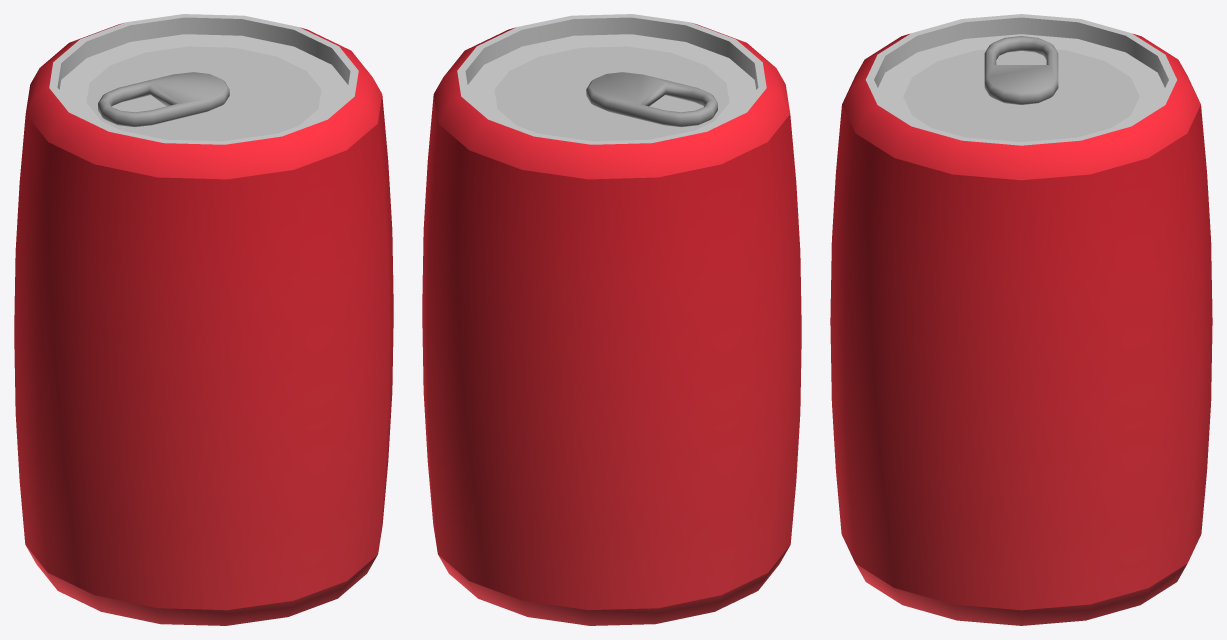
The model's file is Coke_V1_00.fbx.
3 renders of one model, left to right at view 1: azimuth 30°, elevation 25°; view 2: azimuth 150°, elevation 25°; view 3: azimuth 270°, elevation 25°, orthographic.
Parts seen in each view (by area): view 1: Coke_V1_00; view 2: Coke_V1_00; view 3: Coke_V1_00.
Boxes of the visible parts, left/top/right/bottom form: Coke_V1_00: left=14, top=14, right=393, bottom=625; Coke_V1_00: left=422, top=14, right=801, bottom=625; Coke_V1_00: left=830, top=14, right=1212, bottom=625.
Size of the model in its own units: 22.07 by 30.74 by 22.07.
